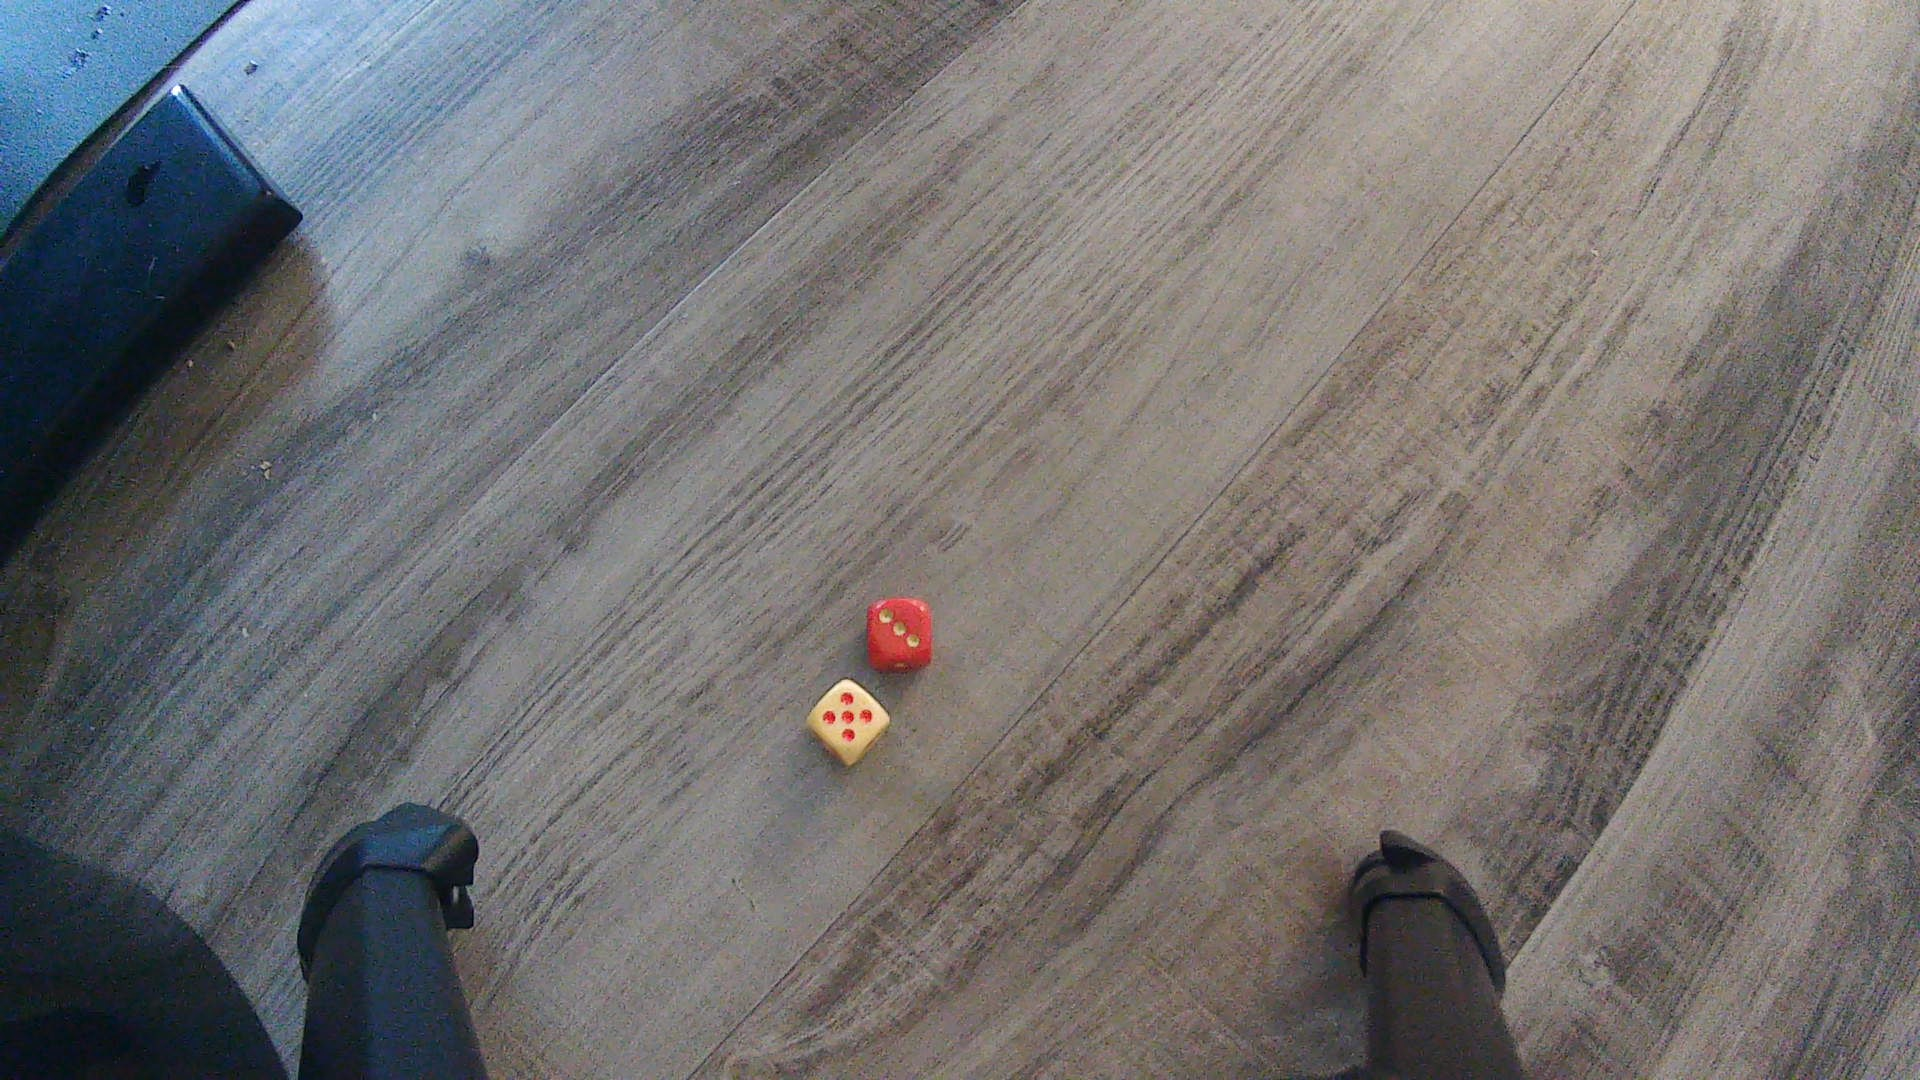die: (804, 676, 891, 767), (866, 597, 934, 674)
